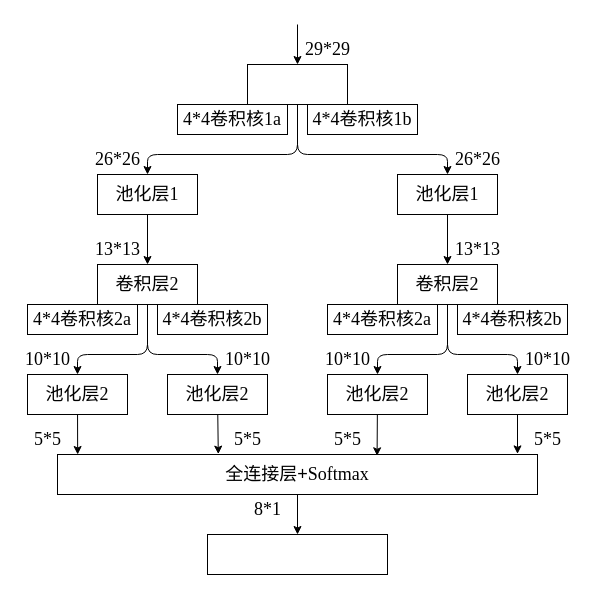
Some shapes in this 594 by 592 pixel diagram are drawn without their labels. Here are the shapes that lost their labels. From the top down, the box of each, then its label:
(246, 64, 348, 104): 卷积层 1
(206, 534, 388, 574): 确定最大概率物体
